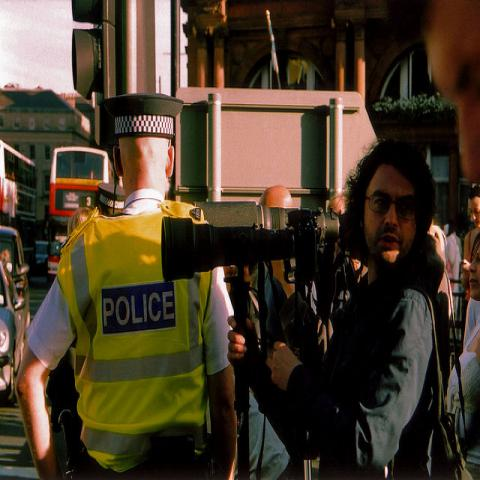bus: (0, 141, 38, 270), (48, 147, 115, 215)
car: (0, 262, 29, 404), (0, 224, 30, 312), (35, 241, 49, 264)
